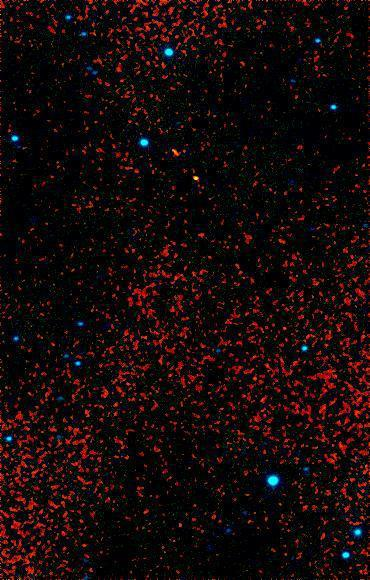star: (180, 162, 210, 192)
